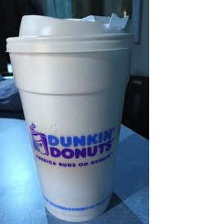paper_cup: (2, 5, 140, 223)
